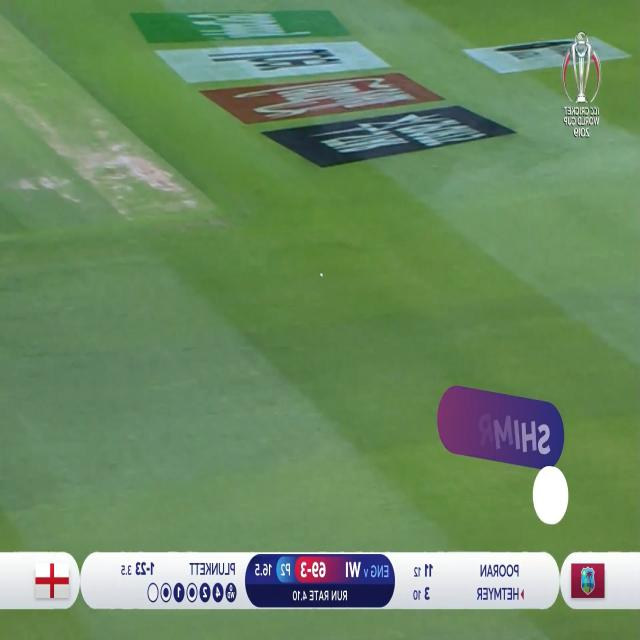ball: (315, 269, 326, 287)
